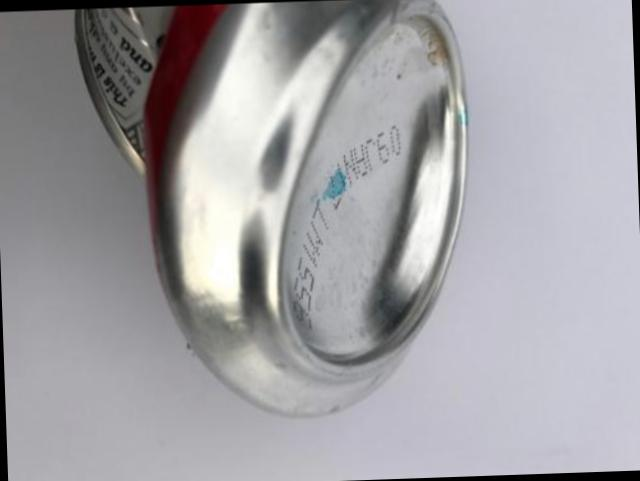metal: (78, 0, 469, 418)
